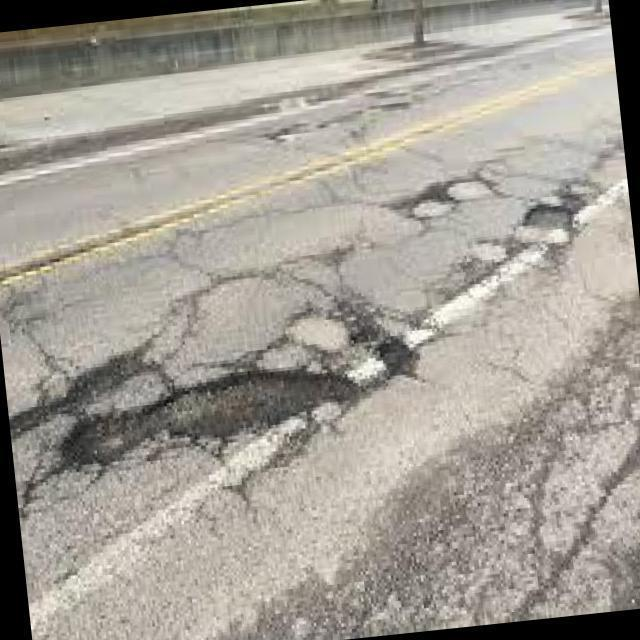Pothole: (97, 379, 357, 461)
